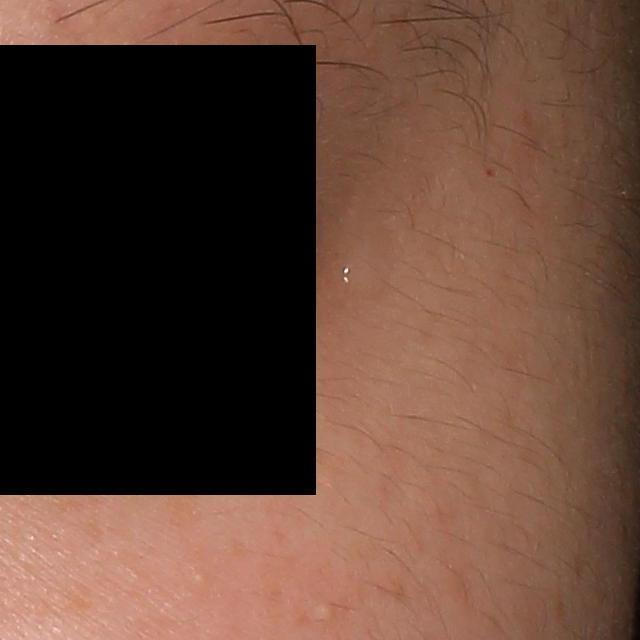melasma: (160, 478, 207, 531), (45, 483, 112, 517)
